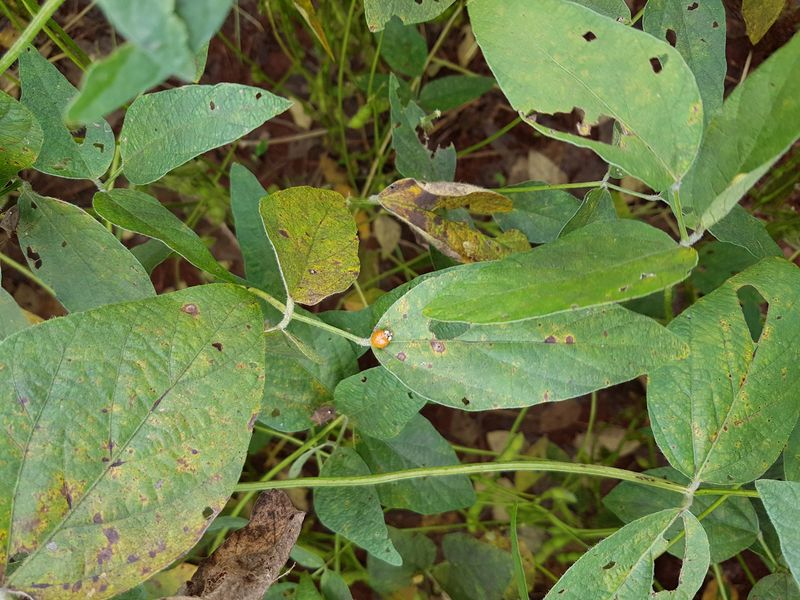Coccinellidae: (365, 324, 400, 356)
Euschistus_heros_adulto: (301, 398, 341, 434)
